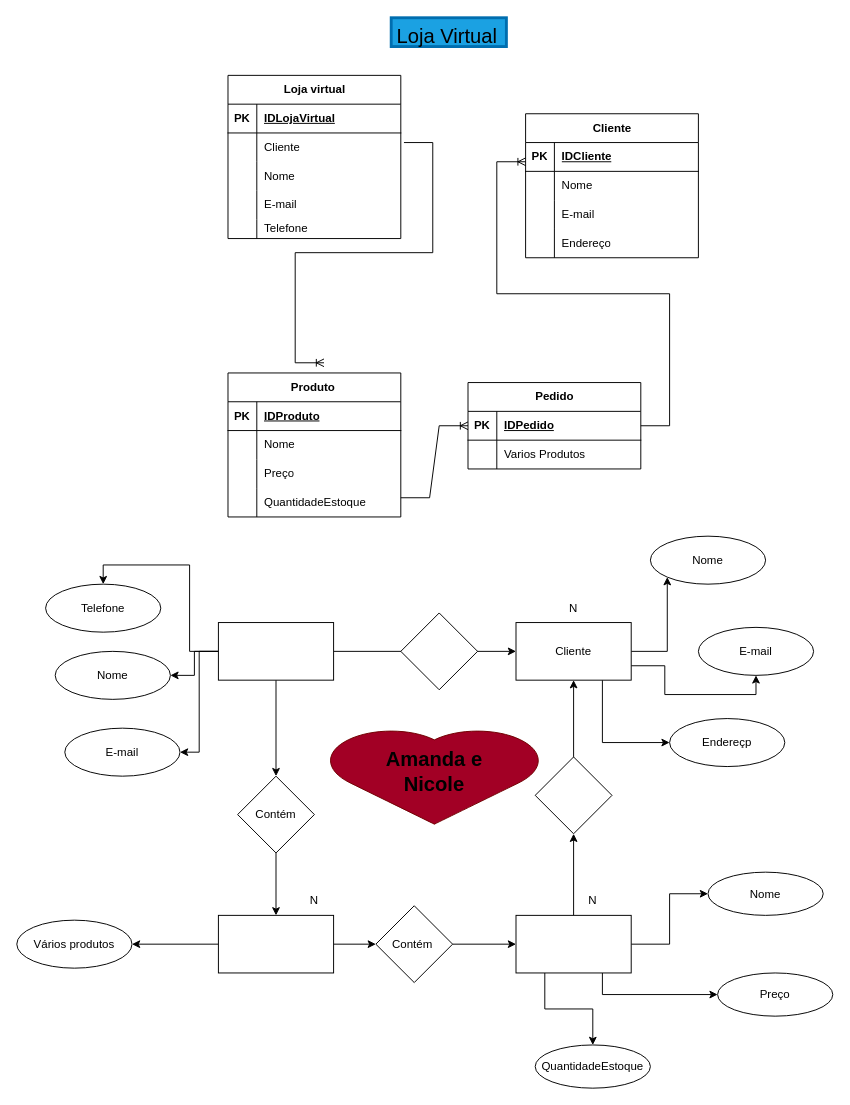
Image size: 850x1105. Some labels were removed from this diagram. Each missing label, with the centre of its shape:
"Loja Online" goes at point (275, 651).
"Pedidos" goes at point (275, 943).
"Possui" goes at point (439, 651).
"Produtos" goes at point (573, 943).
"Recebe" goes at point (573, 795).
